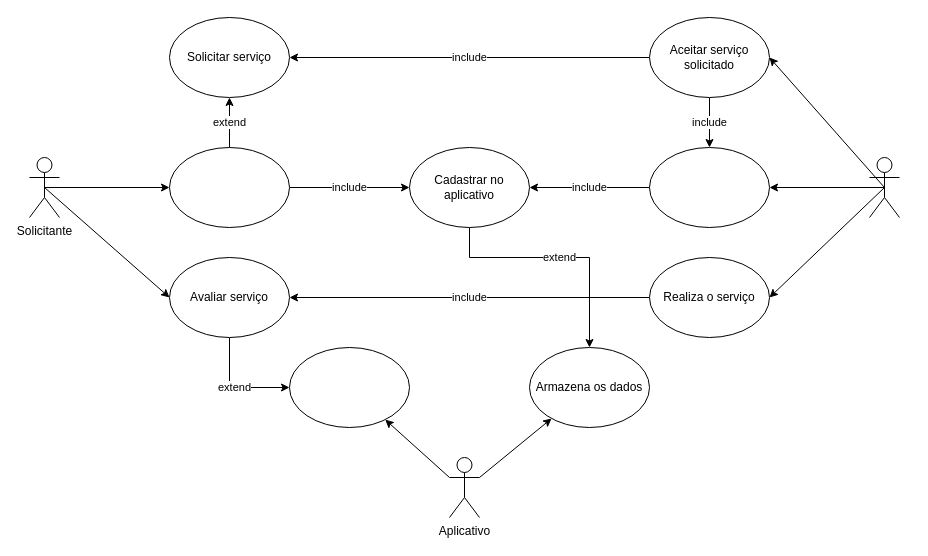
This 928x556 diagram has some shape labels left out. The shapes that lost their labels are listed below. From the top down, each one's centre as x and y in pixels, then its label:
At (x=229, y=187): "Pesquisar serviços".
At (x=709, y=187): "Cadastrar serviços".
At (x=884, y=187): "Prestador".
At (x=349, y=387): "Finaliza o Serviço".
